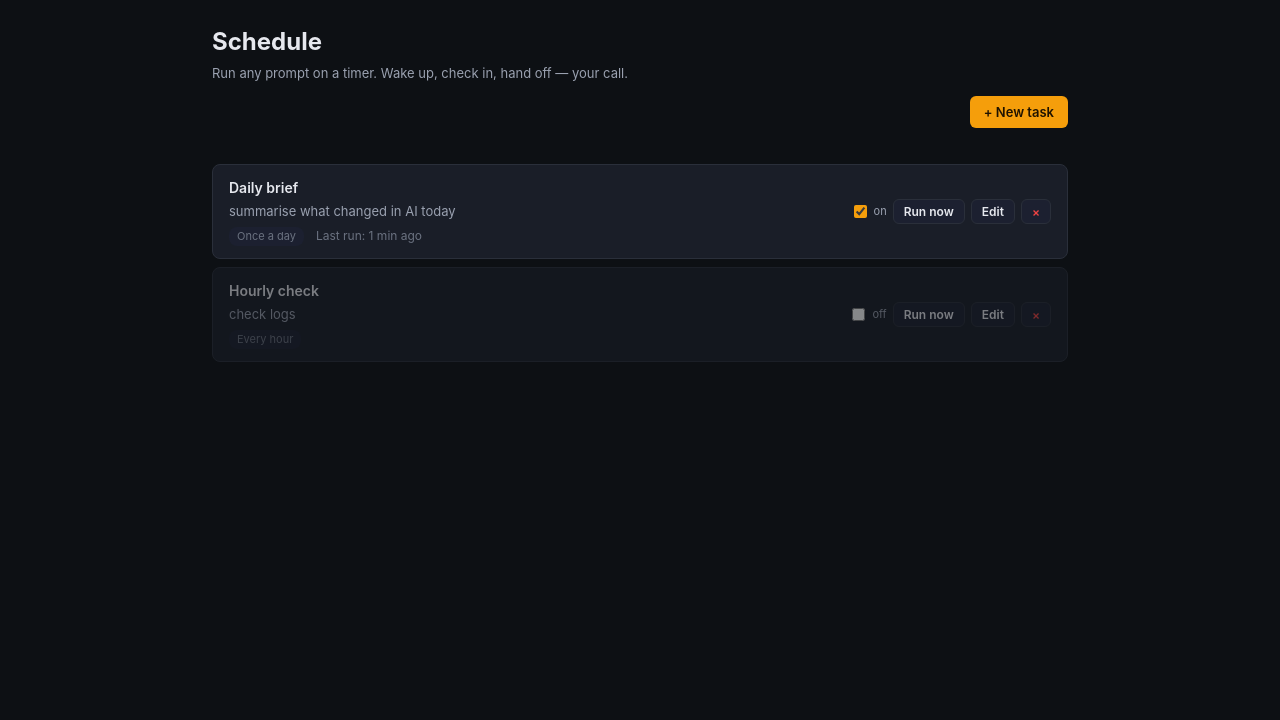
Test: ScheduleView › Edit opens the form pre-filled
The image size is (1280, 720).
Expected: the text "Daily brief" is shown, 229,178 -> 298,196
Click the button "Edit" in the row of "summarise what changed in AI today" at (993, 211), box 971,198 -> 1015,224
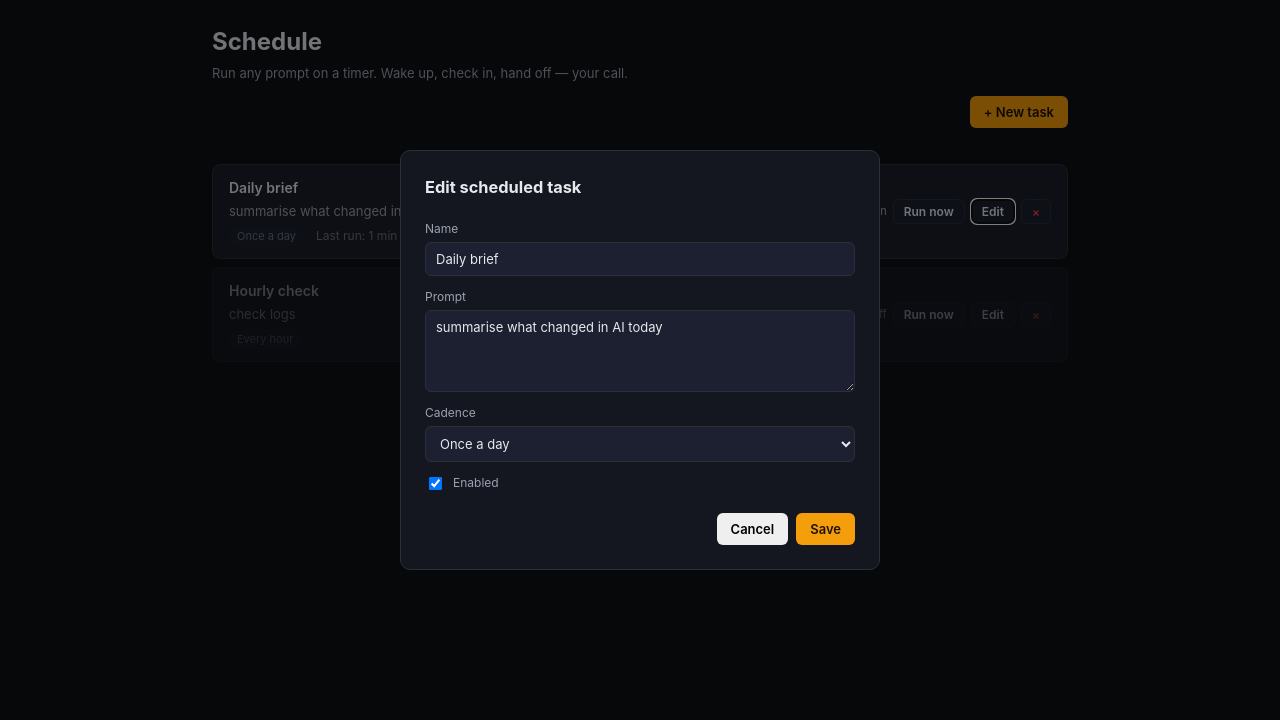
Expected: the heading "Edit scheduled task" is shown, 425,177 -> 581,197
Expected: the field with placeholder "Daily brief" holds "Daily brief", 425,242 -> 855,276
